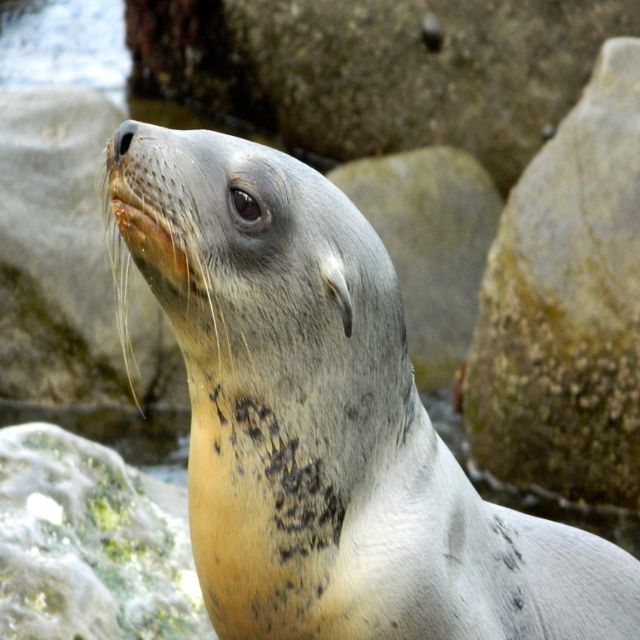Sea lion: (97, 120, 635, 640)
